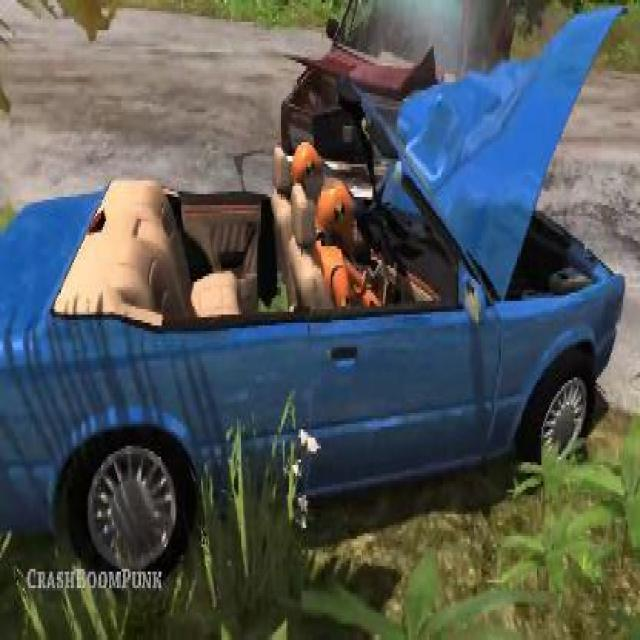accident: (0, 0, 632, 604)
